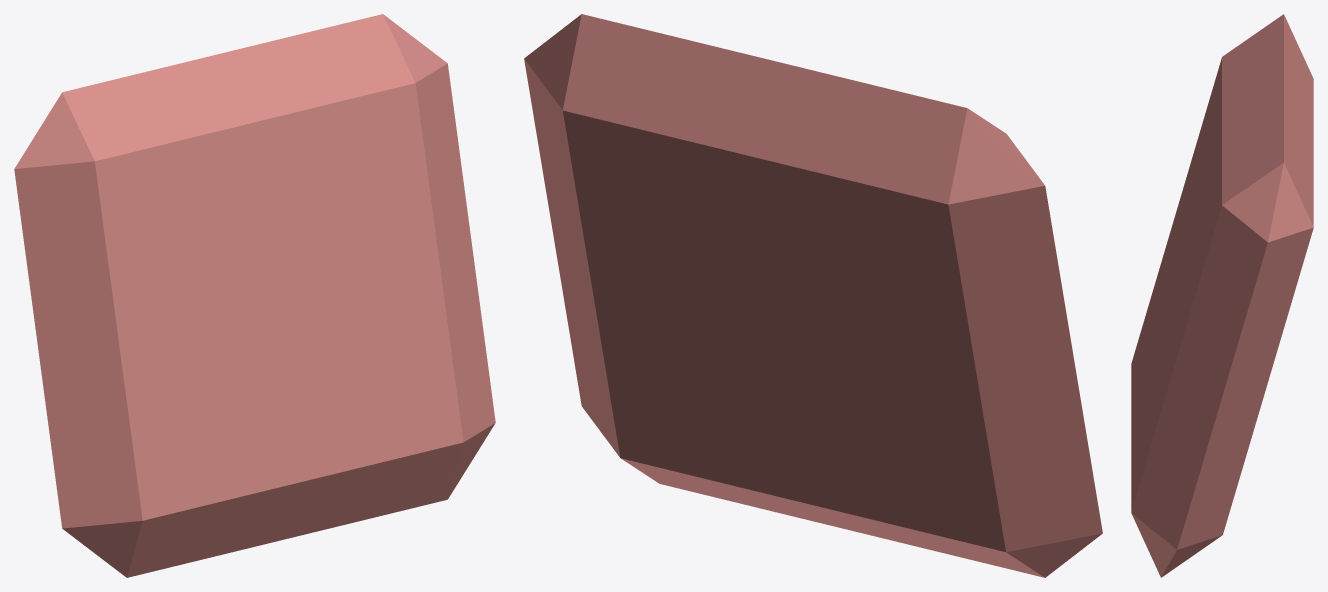
File: pillow.glb
3 renders of one model, left to right at view 1: azimuth 30°, elevation 25°; view 2: azimuth 150°, elevation 25°; view 3: azimuth 270°, elevation 25°, orthographic. The views are drawn at different scales.
Parts seen in each view (by area): view 1: pillow; view 2: pillow; view 3: pillow.
Part boxes in pixels (box(x1,y1,x2,y2)): pillow: box(14, 14, 495, 577); pillow: box(524, 14, 1102, 577); pillow: box(1131, 14, 1313, 577).
Size of the model in its own units: 0.23 by 0.2222 by 0.0885.
